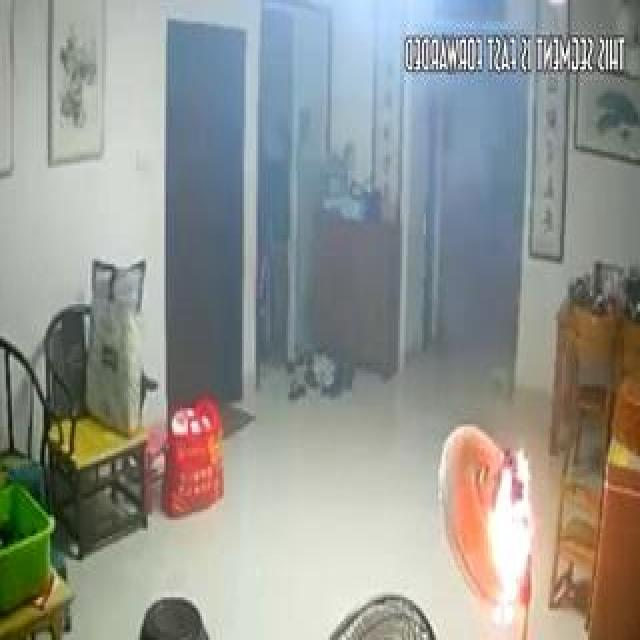Fire: (437, 364, 543, 631)
